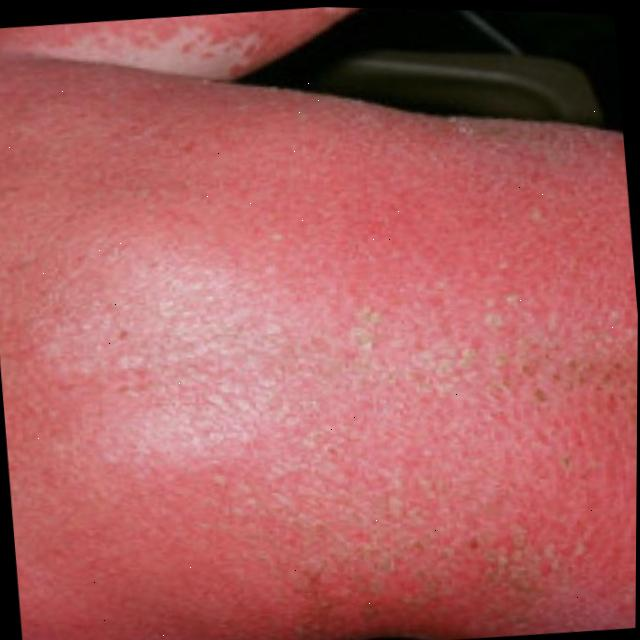Eczema: (0, 25, 640, 640), (0, 0, 613, 66)
